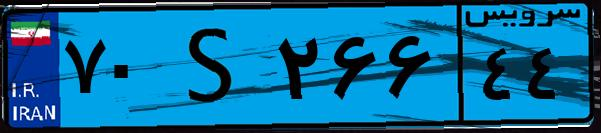0: (110, 28, 158, 98)
2: (270, 28, 330, 110)
4: (475, 38, 525, 113), (525, 38, 570, 115)
6: (385, 28, 445, 110), (330, 28, 385, 110)
7: (57, 26, 110, 100)
S: (158, 12, 270, 120)
